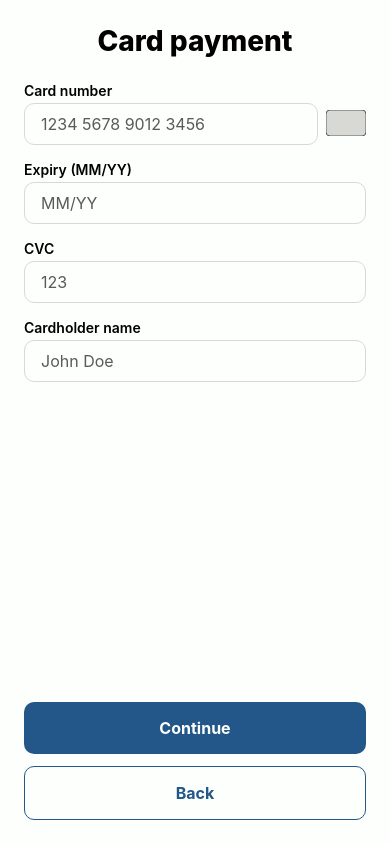
Scenario: CardScreen › shows field errors and blocks submission for an invalid form
Click the element with test id "card-submit-button" at (195, 728), box [24, 702, 366, 754]
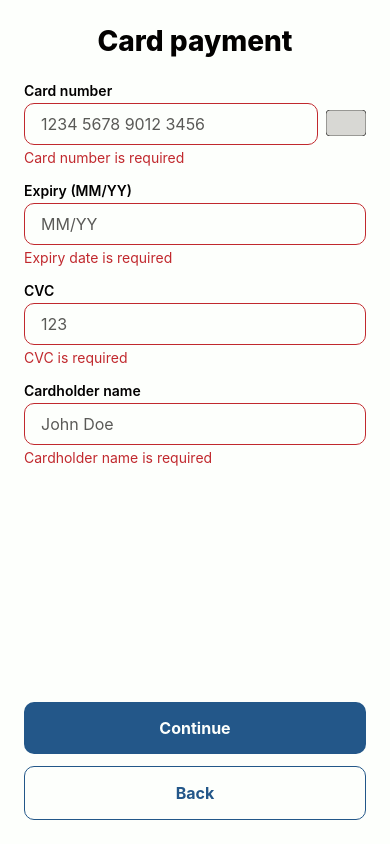
Now the text "Card number is required" is shown, box [24, 149, 184, 166]
